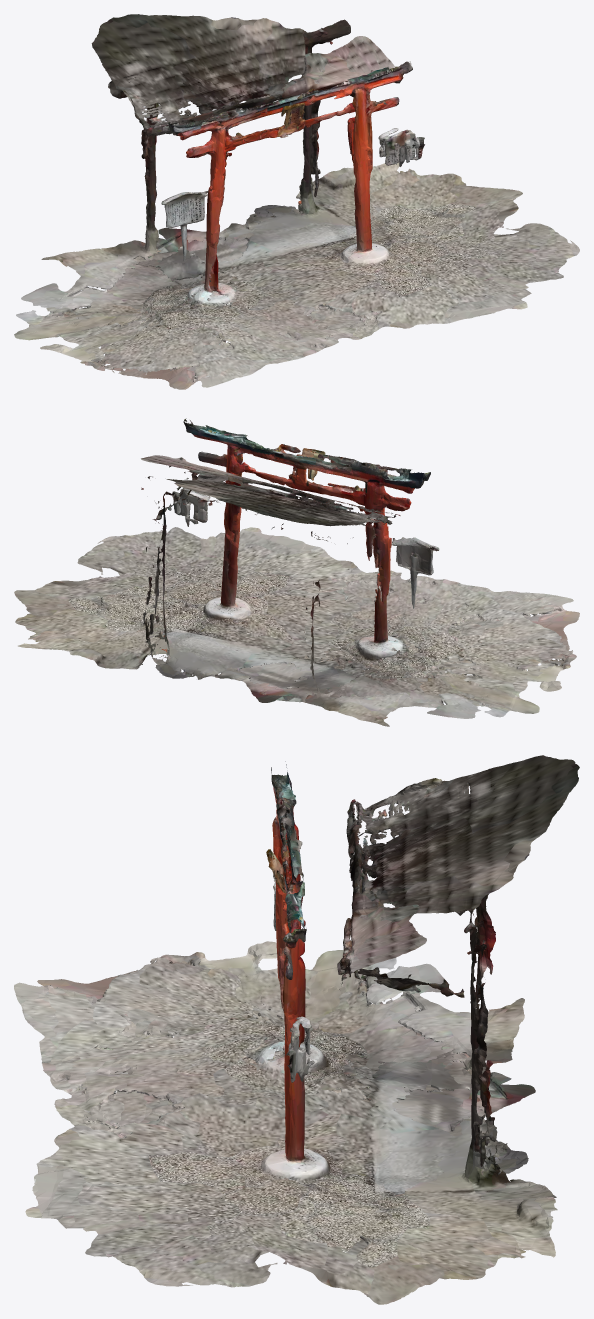
Rendered from torii-shimogamo-shina.glb.
3 renders of one model, top to bottom at view 1: azimuth 30°, elevation 25°; view 2: azimuth 150°, elevation 25°; view 3: azimuth 270°, elevation 25°, orthographic. The views are drawn at different scales.
Parts seen in each view (by area): view 1: mesh; view 2: mesh; view 3: mesh.
Part boxes in pixels (x1,y1,x2,y2): mesh: (14, 14, 579, 389); mesh: (14, 418, 579, 726); mesh: (14, 755, 579, 1304).
Bounding box in the file's own units: 7.76 × 3.07 × 5.07.
Materials: 1 (1 with a texture image).
